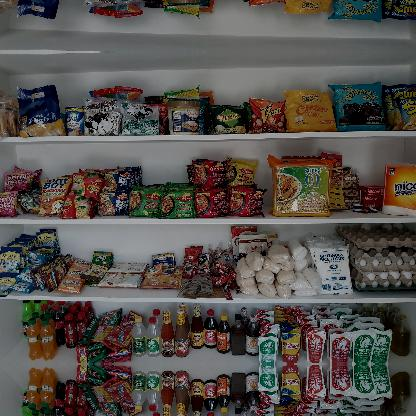Lady-s-Choice: (166, 100, 200, 134)
